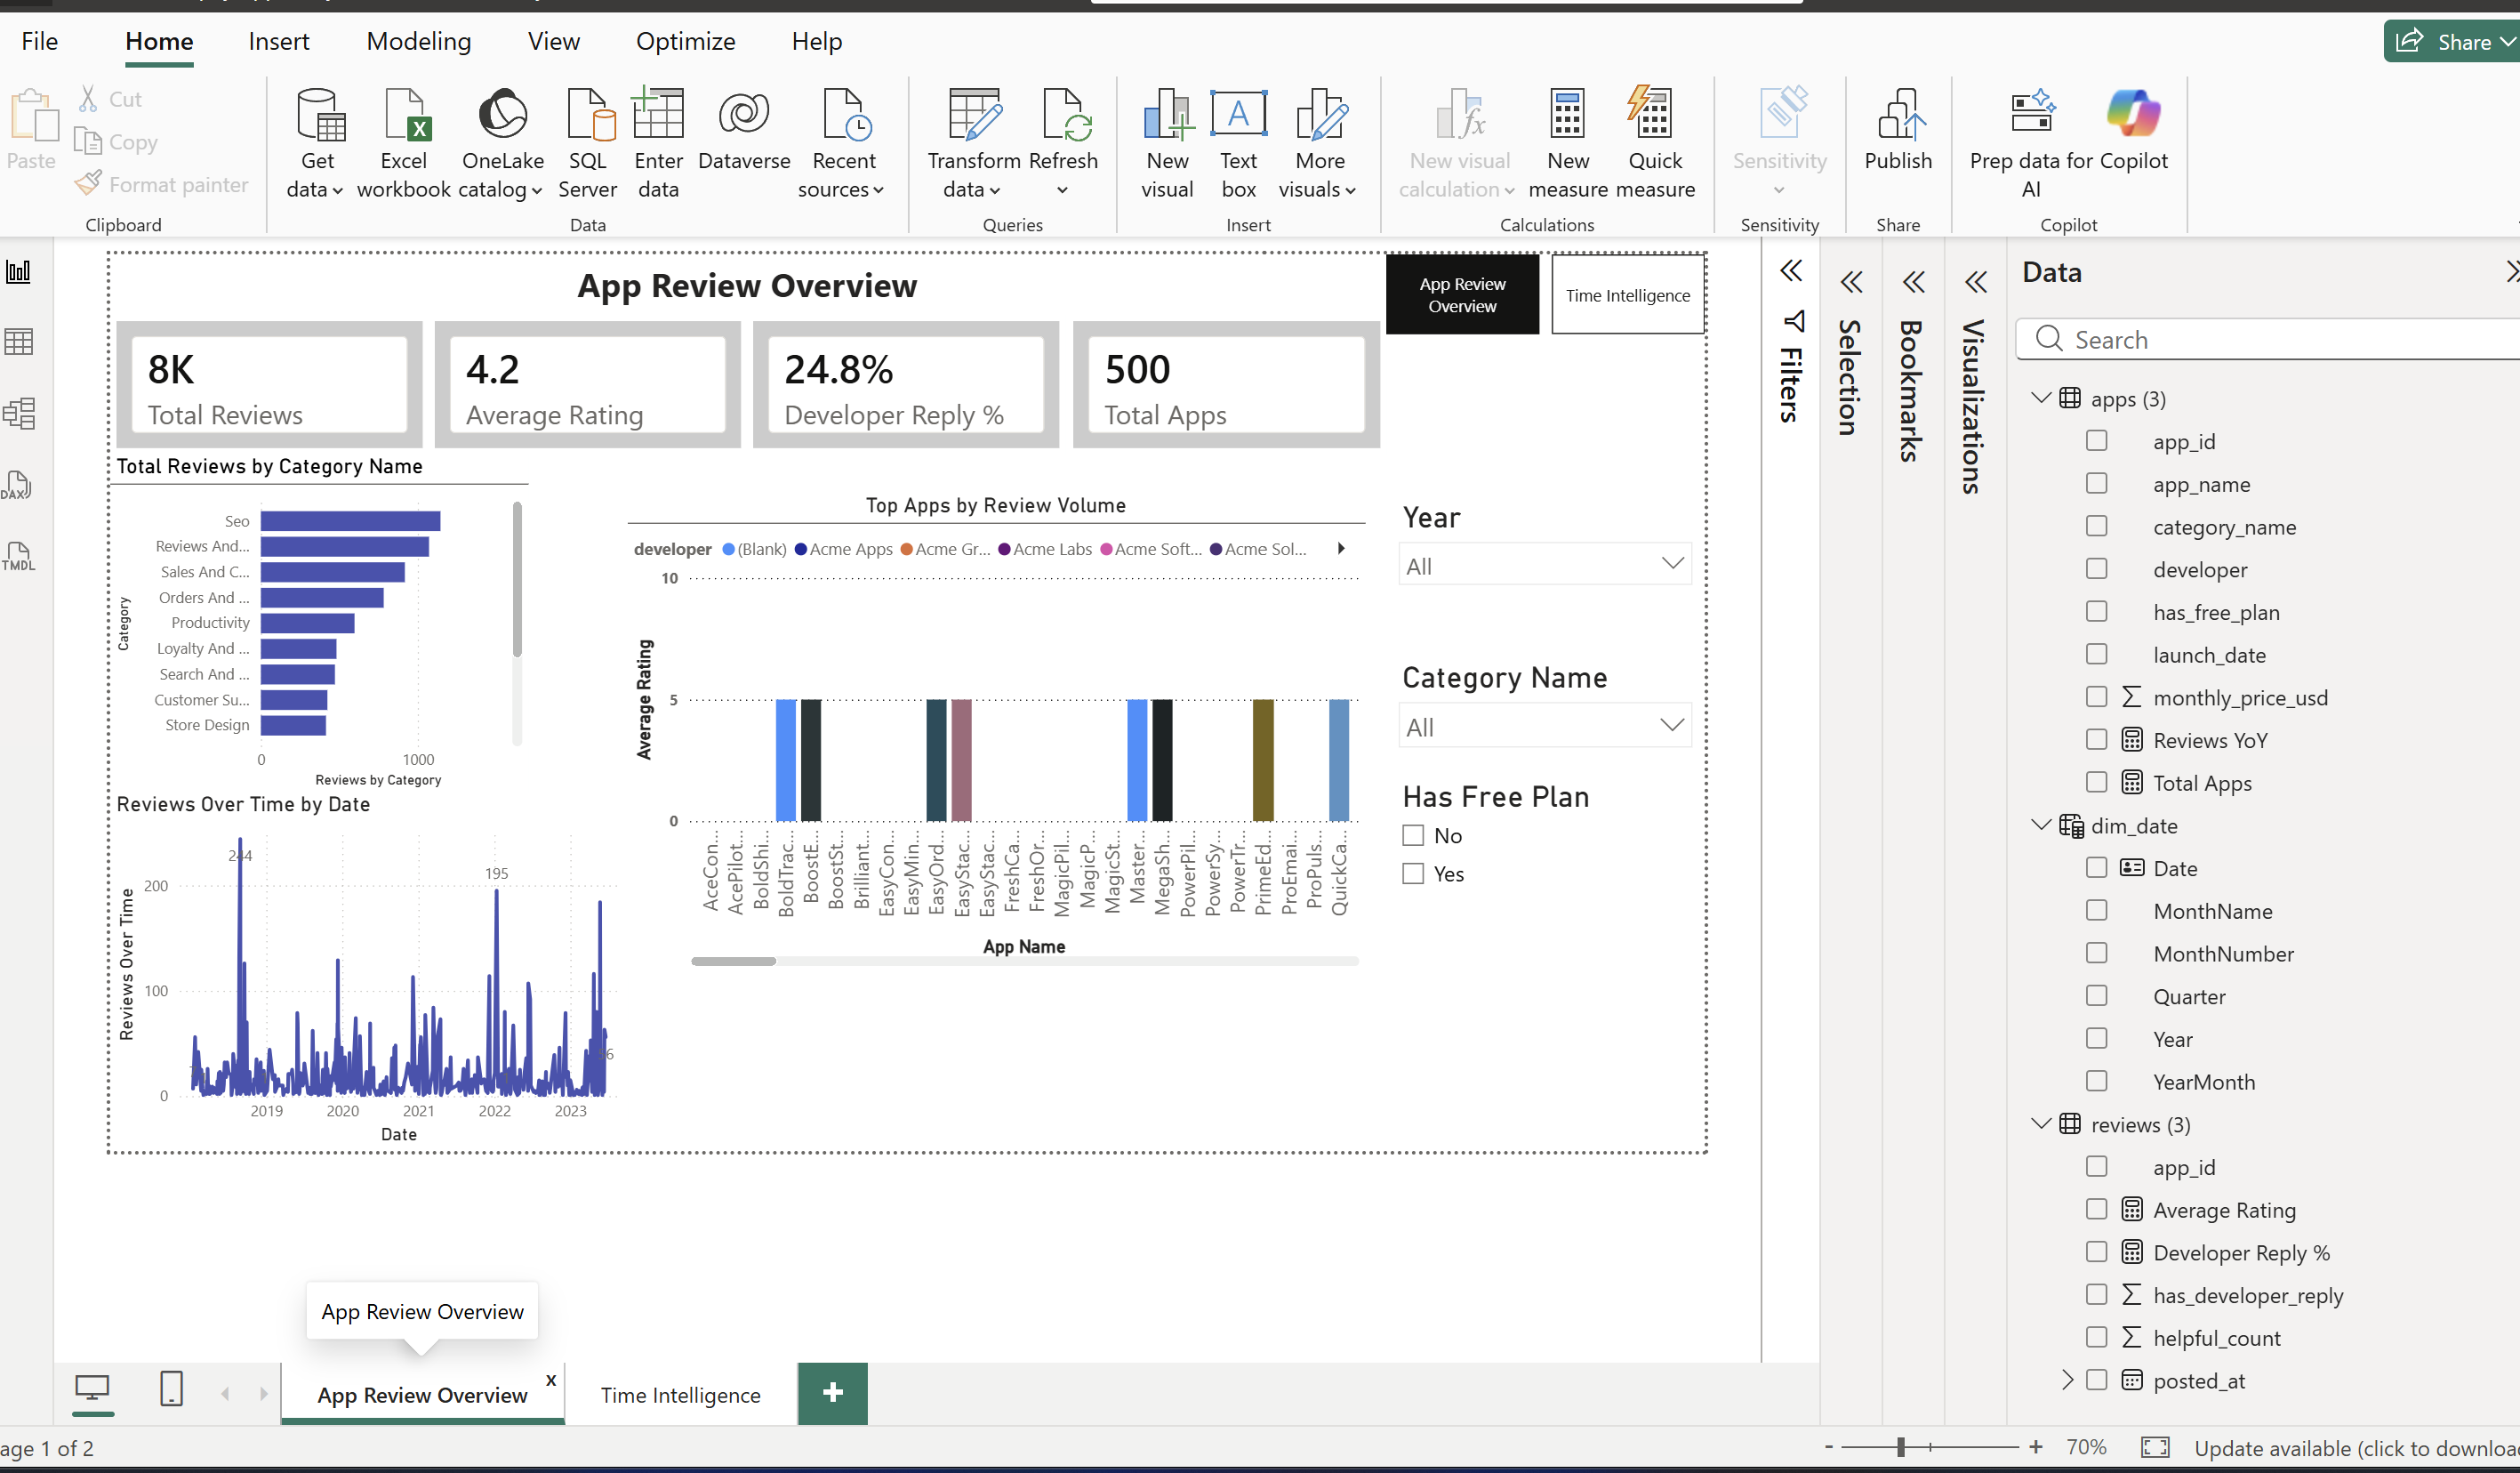

This screenshot's page, from the dashboard's own definition file:
{"tool":"powerbi","page":{"name":"App Review Overview","canvas":[1280,720],"ordinal":0},"visuals":[{"type":"cardVisual","fields":{"Data":["apps (3).Total Apps"]},"box":[768,48,256,112],"z":0},{"type":"cardVisual","fields":{"Data":["reviews (3).Total Reviews"]},"box":[0,48,256,112],"z":1000},{"type":"cardVisual","fields":{"Data":["reviews (3).Average Rating"]},"box":[256,48,256,112],"z":2000},{"type":"cardVisual","fields":{"Data":["reviews (3).Developer Reply %"]},"box":[512,48,256,112],"z":3000},{"type":"slicer","fields":{"Values":["apps (3).category_name"]},"box":[1024,320,256,80],"z":4000},{"type":"slicer","fields":{"Values":["dim_date.Year"]},"box":[1024,192,256,96],"z":5000},{"type":"slicer","fields":{"Values":["apps (3).has_free_plan"]},"box":[1024,416,256,112],"z":6000},{"type":"lineChart","fields":{"Category":["dim_date.Date.Variation.Date Hierarchy.Year"],"Y":["reviews (3).Reviews Over Time"]},"box":[0,432,416,288],"z":7000},{"type":"barChart","title":"Total Reviews by Category Name","fields":{"Category":["apps (3).category_name"],"Y":["reviews (3).Total Reviews"]},"box":[0,160,336,272],"z":8000},{"type":"columnChart","title":"Top Apps by Review Volume","fields":{"Category":["apps (3).app_name"],"Series":["apps (3).developer"],"Y":["reviews (3).Average Rating"]},"box":[416,192,592,384],"z":9000},{"type":"pageNavigator","box":[1024,0,256,64],"z":10000},{"type":"textbox","box":[0,0,1024,48],"z":10001}]}

Visuals, with their boxes on the page's 1280x720 design canvas (x1, y1, x2, y2). These are canvas units, not pixel positions in the 2520x1473 screenshot, which may show the page scaled, cropped or inside an application window:
cardVisual - apps (3).Total Apps: select_region(768, 48, 1024, 160)
cardVisual - reviews (3).Total Reviews: select_region(0, 48, 256, 160)
cardVisual - reviews (3).Average Rating: select_region(256, 48, 512, 160)
cardVisual - reviews (3).Developer Reply %: select_region(512, 48, 768, 160)
slicer - apps (3).category_name: select_region(1024, 320, 1280, 400)
slicer - dim_date.Year: select_region(1024, 192, 1280, 288)
slicer - apps (3).has_free_plan: select_region(1024, 416, 1280, 528)
lineChart - dim_date.Date.Variation.Date Hierarchy.Year x reviews (3).Reviews Over Time: select_region(0, 432, 416, 720)
"Total Reviews by Category Name" barChart: select_region(0, 160, 336, 432)
"Top Apps by Review Volume" columnChart: select_region(416, 192, 1008, 576)
pageNavigator: select_region(1024, 0, 1280, 64)
textbox: select_region(0, 0, 1024, 48)
